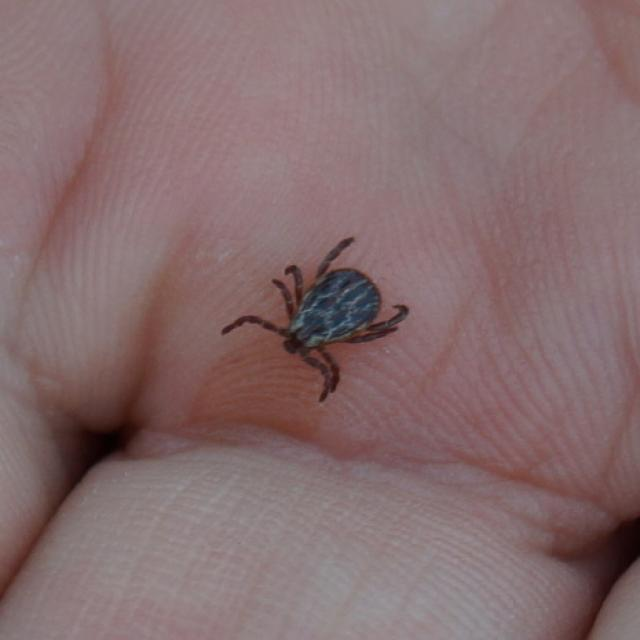Dermacentor Reticulatus-M: (222, 238, 409, 401)
